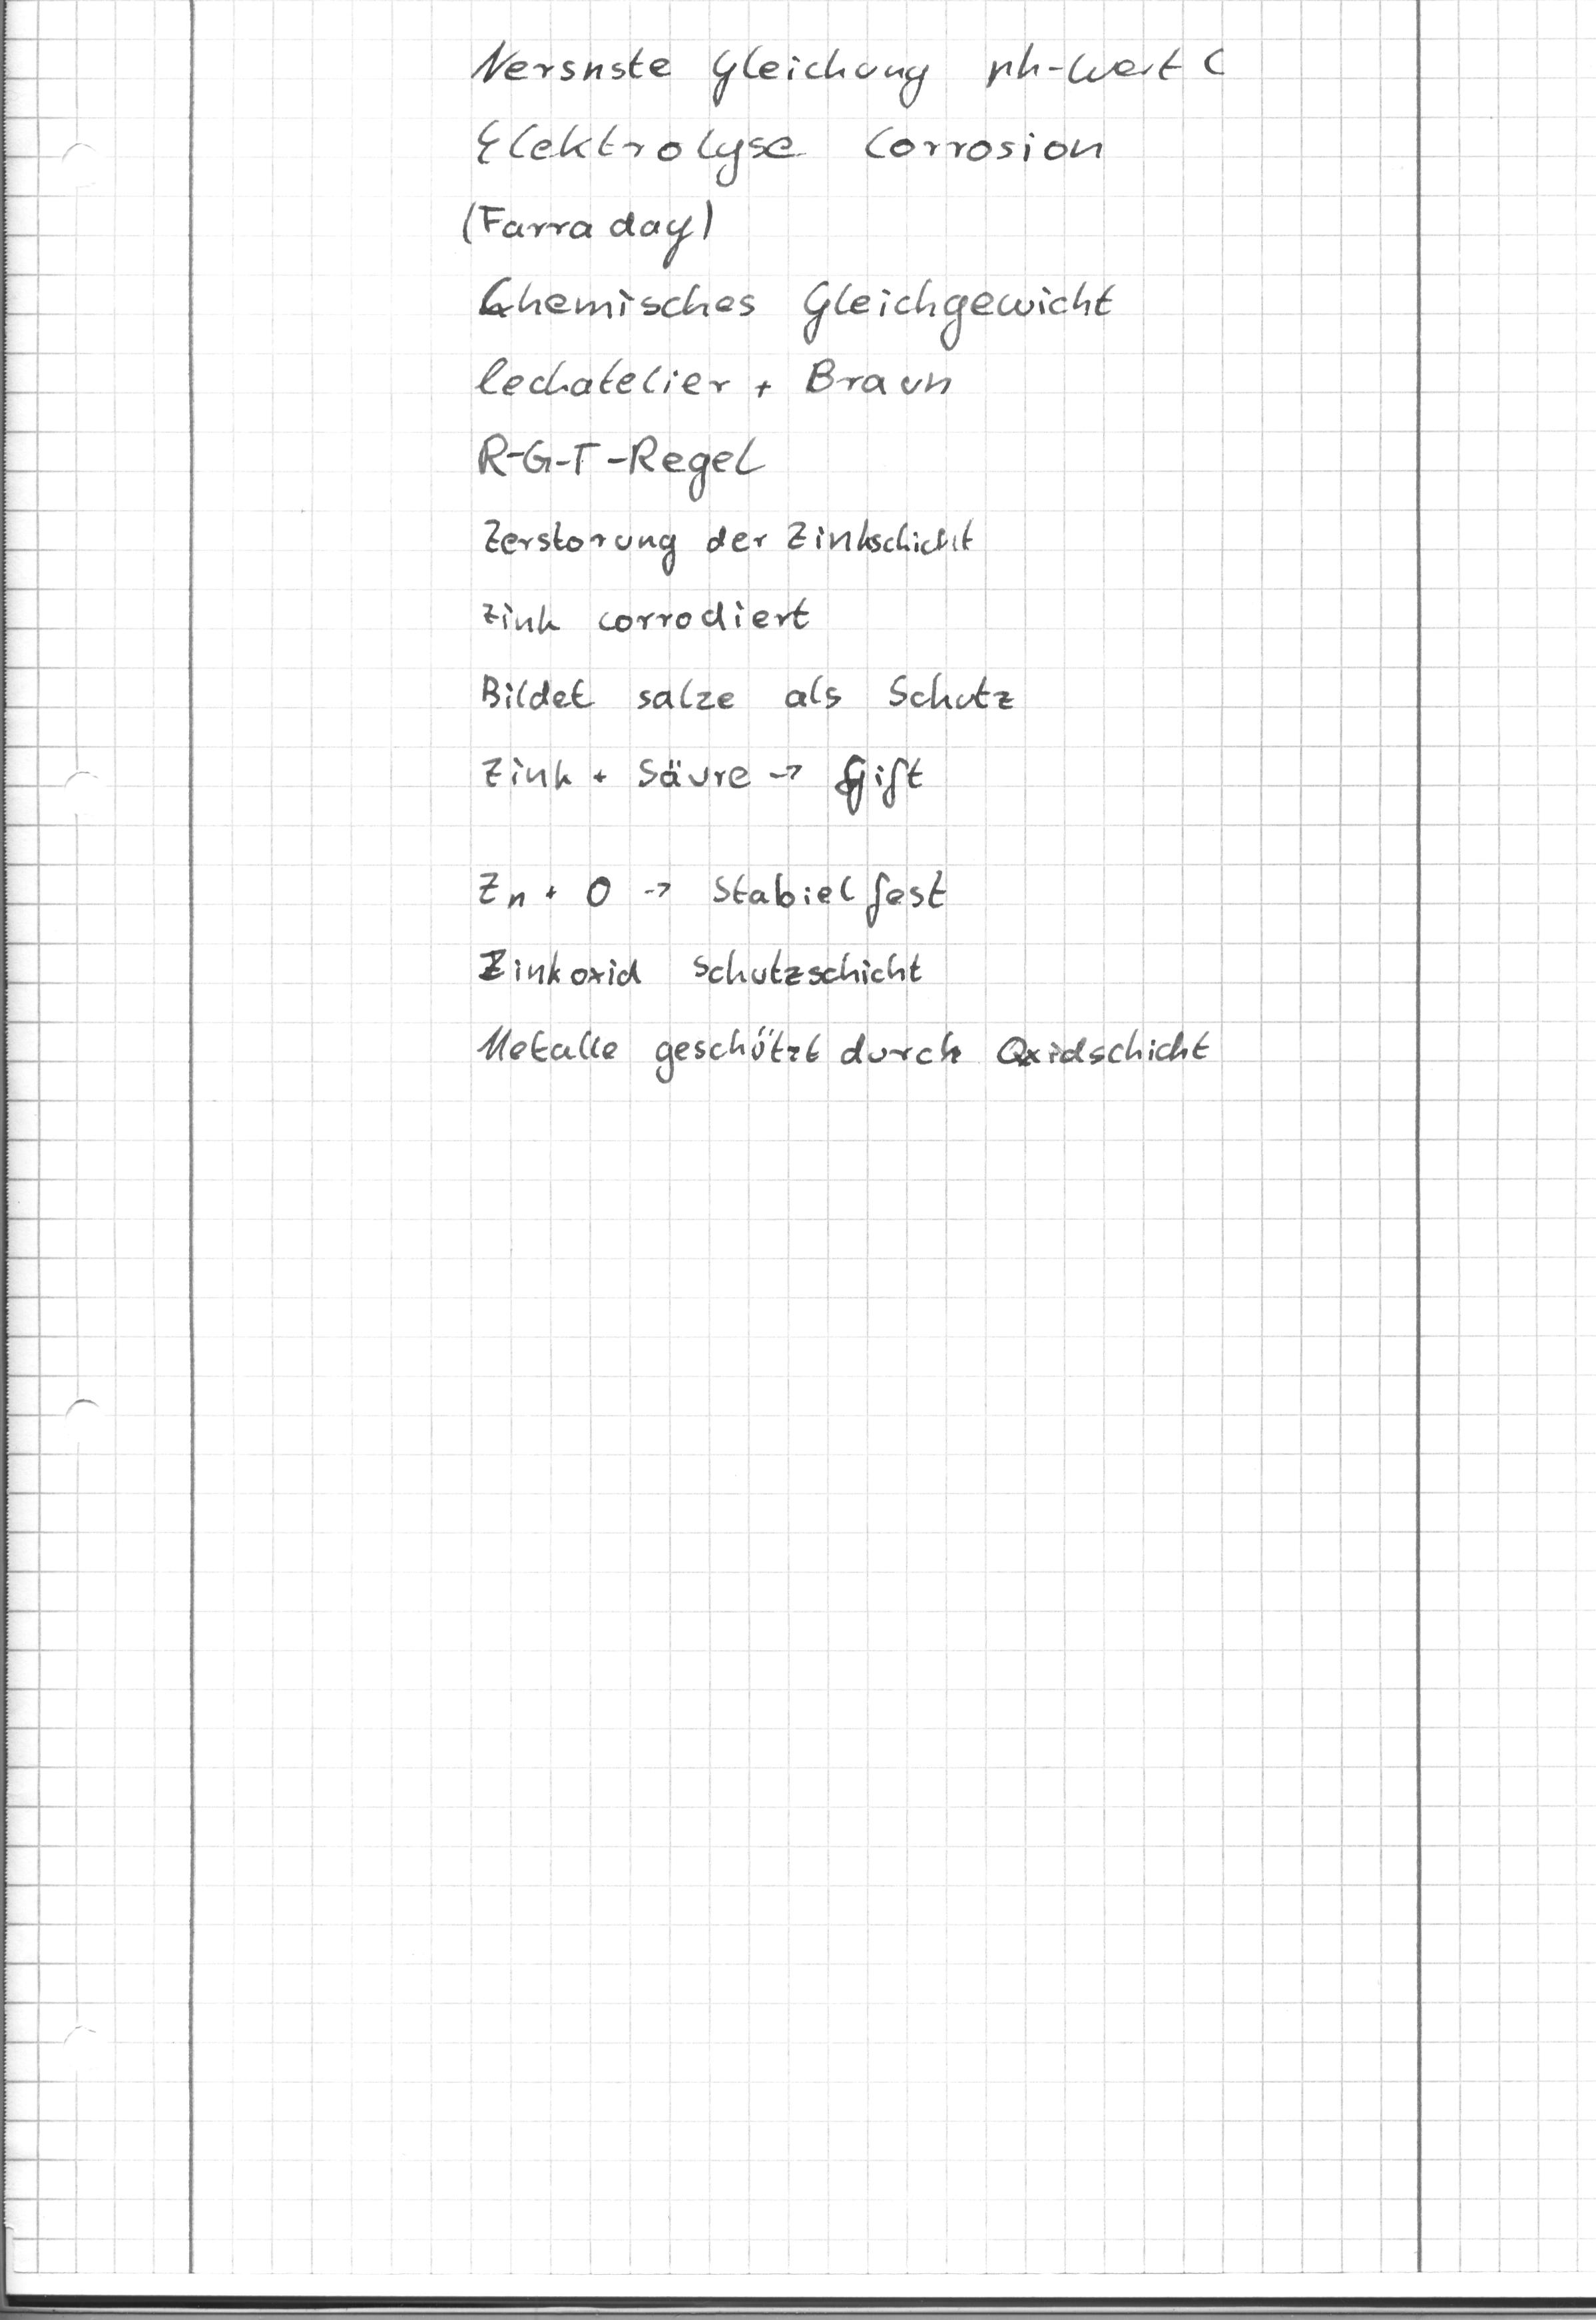word: (445, 33, 1243, 354), (463, 863, 1222, 1096), (465, 586, 1025, 833), (459, 352, 989, 579)
